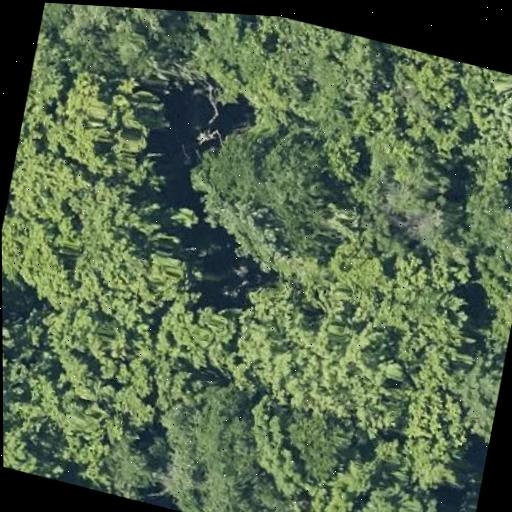tree-top: (22, 177, 202, 341), (186, 11, 386, 149), (195, 109, 351, 265), (33, 49, 173, 199), (140, 367, 276, 512), (348, 117, 465, 235), (374, 376, 476, 506), (150, 283, 245, 382), (272, 398, 356, 487)
